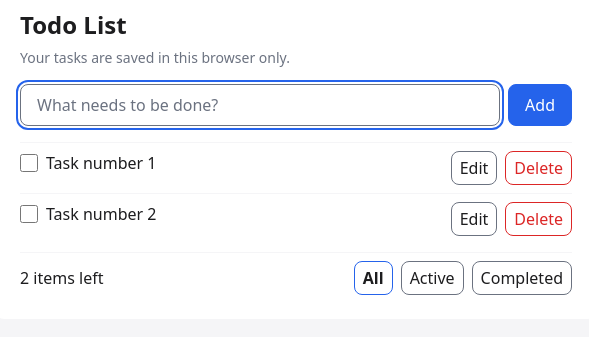
App: edit a task › closes like Cancel for an unchanged title, with nothing saved (Q1)
Click the button with test id "edit-button" in the row of "Task number 1": (474, 168) [451,151,497,185]
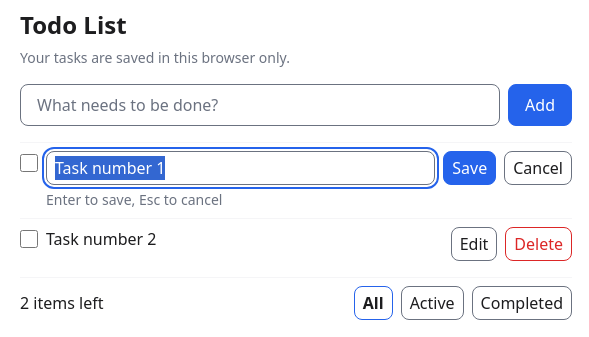
Press Enter
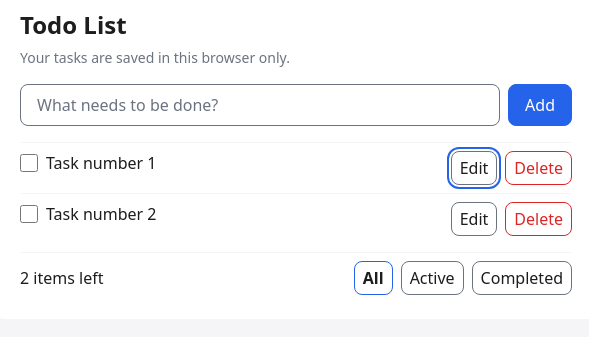
Expected: the form with test id "task-edit-form" is gone
